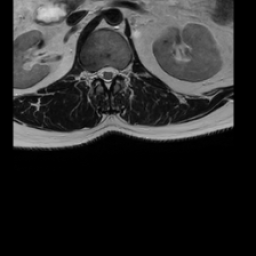CCS_normal: (105, 61, 111, 95)
LFS_normal: (117, 63, 123, 79)
LLS_normal: (111, 62, 118, 81)
RFS_stenosis: (90, 64, 97, 86)
RLS_normal: (97, 64, 105, 84)
